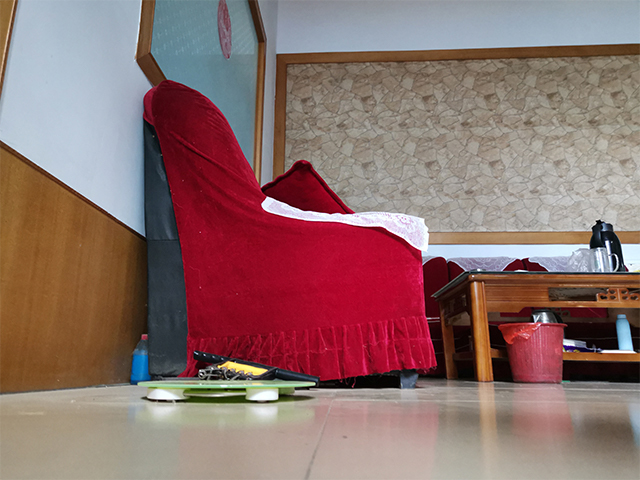sofa: (141, 78, 447, 390)
table: (429, 269, 640, 384)
trashcan: (498, 321, 567, 385)
